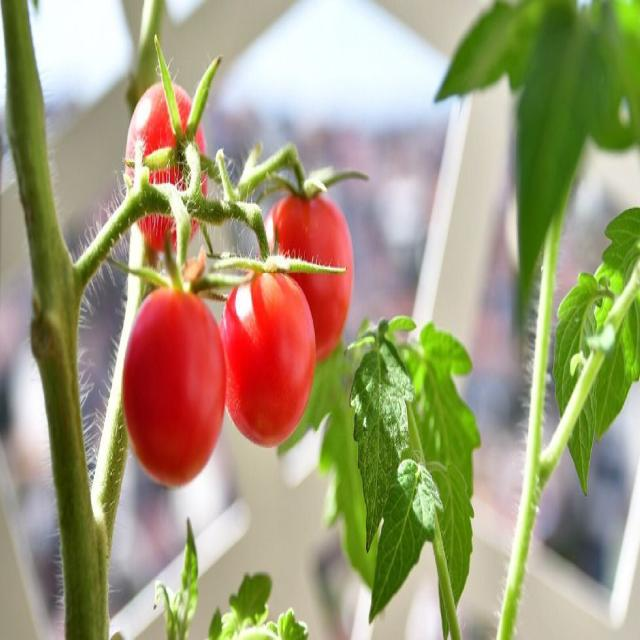level 6: (122, 289, 226, 485), (221, 262, 318, 446), (260, 186, 353, 364), (122, 80, 208, 249)
